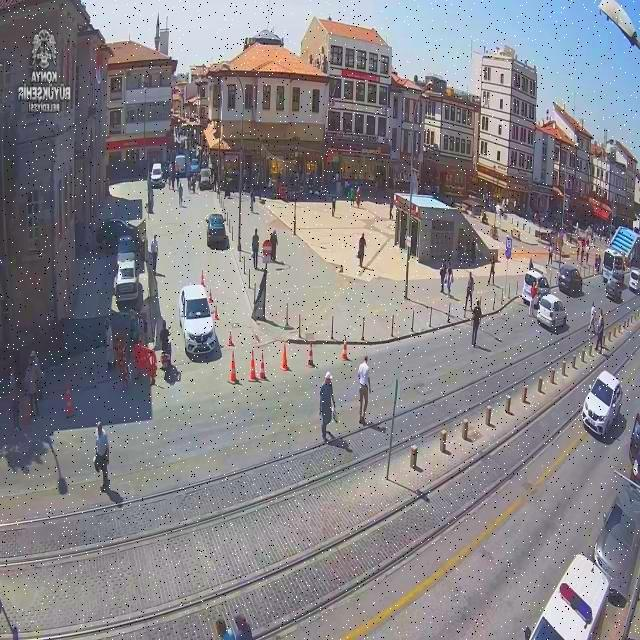Car: (528, 554, 609, 640), (594, 477, 639, 602), (583, 370, 625, 438), (180, 284, 218, 356), (62, 315, 110, 355), (124, 218, 148, 270), (98, 218, 140, 246), (536, 293, 567, 330), (521, 268, 548, 306), (115, 256, 137, 301), (627, 413, 640, 479), (558, 264, 582, 295), (208, 212, 226, 246), (198, 167, 214, 190), (628, 267, 640, 295), (174, 155, 187, 176), (152, 163, 162, 186), (174, 130, 188, 145), (189, 161, 200, 176), (164, 162, 174, 178), (201, 161, 208, 170)
Truck: (601, 226, 640, 290)
